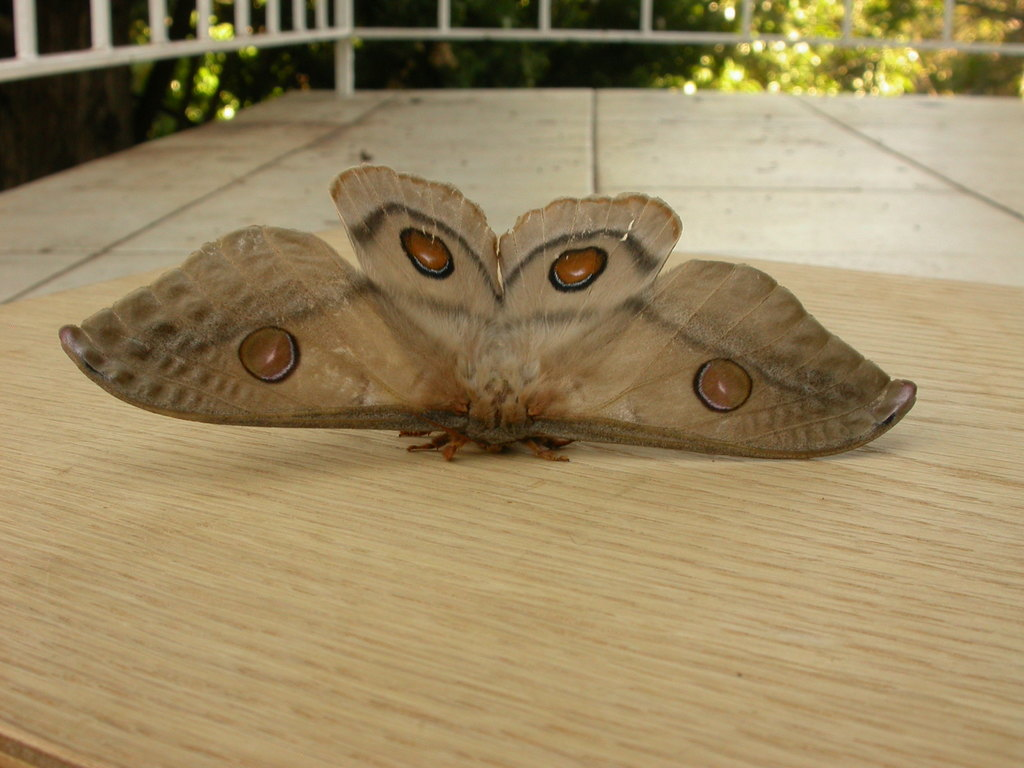Butterfly: (53, 136, 938, 500)
